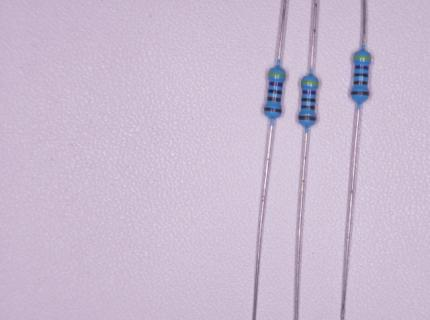Black band: (268, 89, 282, 95), (302, 98, 316, 102), (354, 74, 368, 78)
Brown band: (264, 107, 281, 113), (298, 116, 316, 121), (351, 91, 369, 96), (267, 97, 281, 102), (353, 81, 367, 85), (302, 106, 315, 110)
Violet band: (269, 82, 283, 87), (302, 90, 316, 95), (355, 65, 369, 70)
Yellow band: (301, 81, 318, 85), (269, 73, 285, 77), (354, 56, 371, 59)
